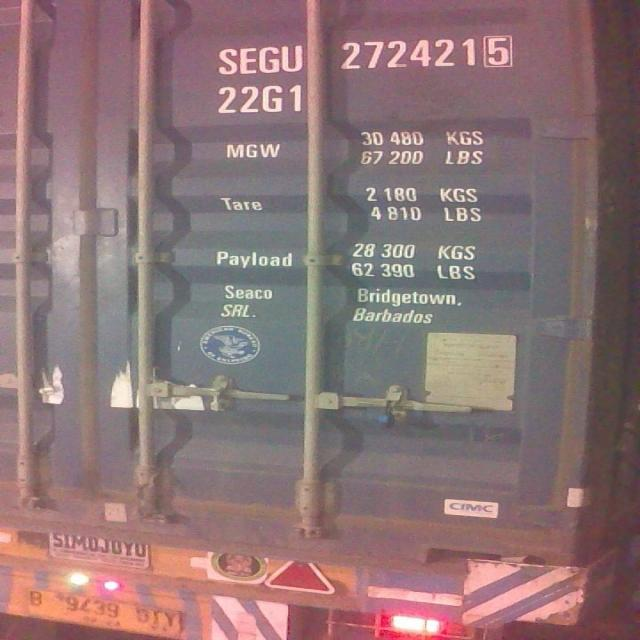seal: (376, 387, 402, 427), (204, 386, 227, 412)
